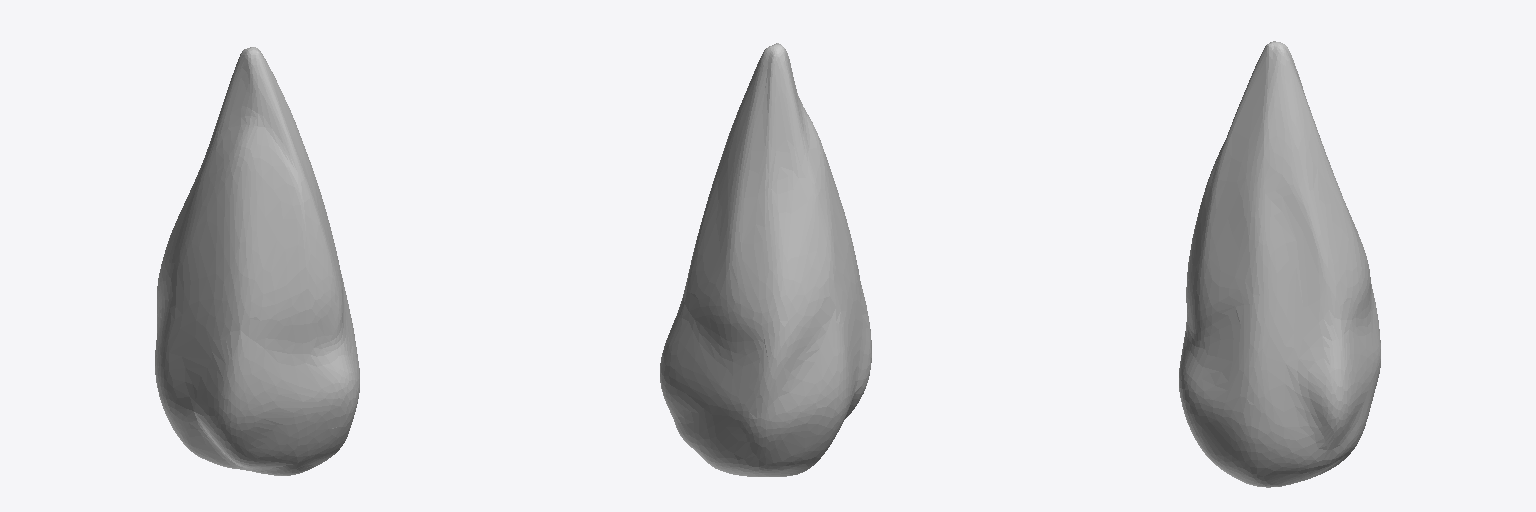
Rendered from pile.obj.
3 views of the same model, side by side, from view 1: azimuth 30°, elevation 25°; view 2: azimuth 150°, elevation 25°; view 3: azimuth 270°, elevation 25° (orthographic).
Parts seen in each view (by area): view 1: Cube; view 2: Cube; view 3: Cube.
Part boxes in pixels (x1,y1,x2,y2): Cube: (155, 47, 359, 475); Cube: (660, 43, 871, 476); Cube: (1179, 41, 1380, 487).
Size of the model in its own units: 4.46 by 10.53 by 4.59.